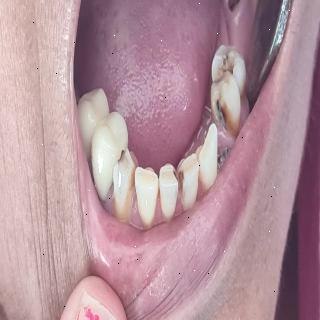cavities: (110, 153, 138, 208), (211, 91, 234, 137), (212, 47, 236, 87), (175, 166, 193, 194), (168, 167, 180, 189)
